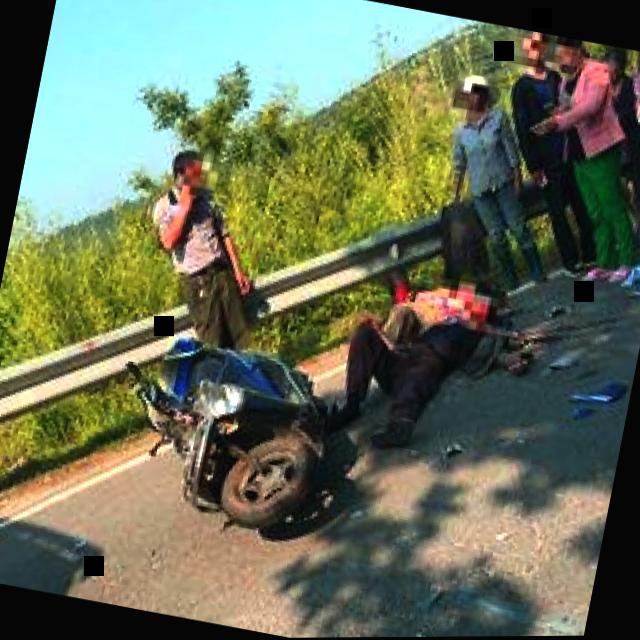Fall-Detected: (308, 227, 552, 481)
